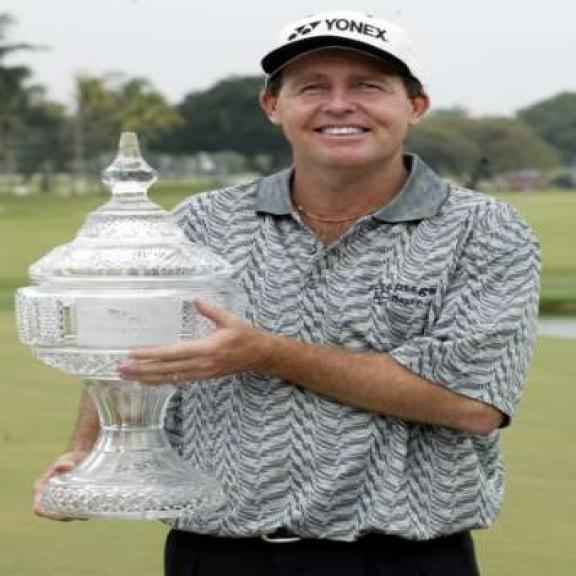face: (263, 50, 437, 174)
